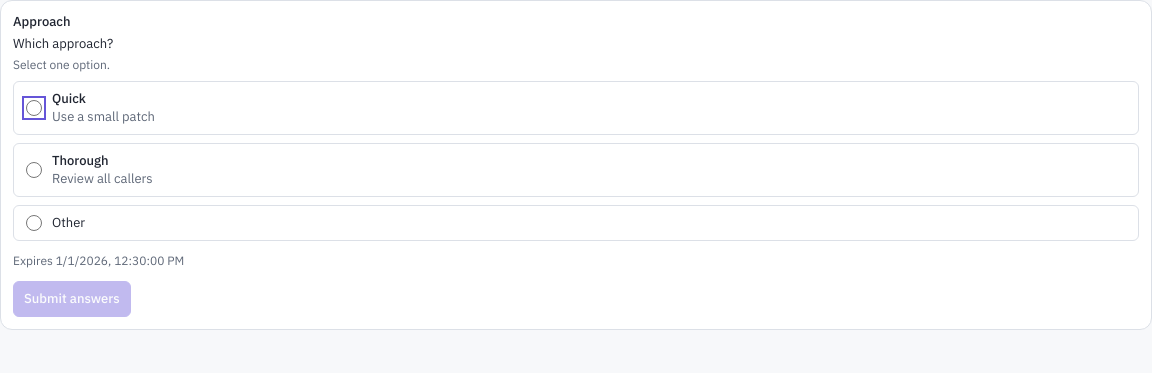
disables question controls and prevents double submission, including after success
The width and height of the screenshot is (1152, 373).
Later steps or results of the test are not shown.
Press Space in the radio button labelled "Quick Use a small patch", box [26,100,42,116]
Click the radio button labelled "Quick Use a small patch": (34, 108) [26,100,42,116]
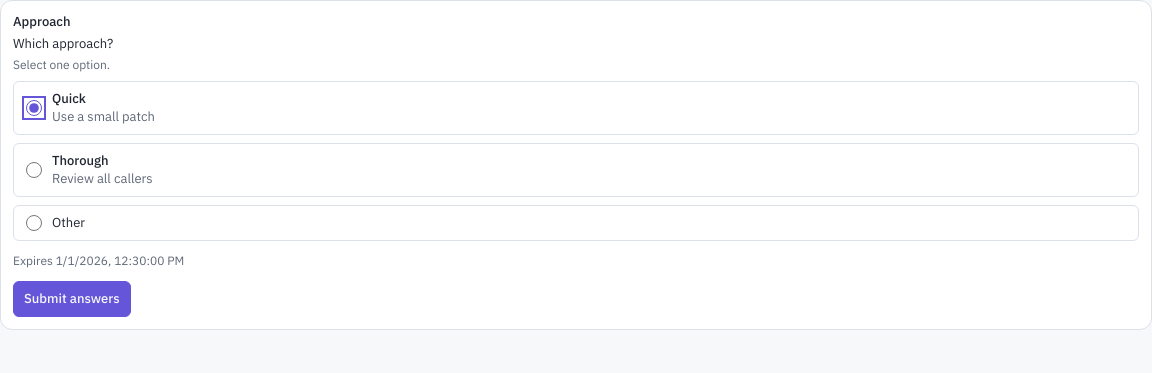
Click the button "Submit answers": (72, 299) [13,281,131,317]
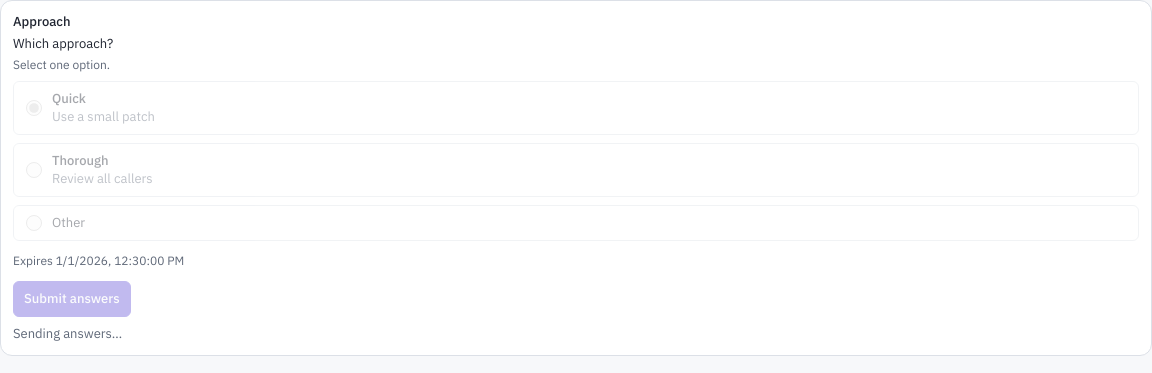
Submit the form named "Submit answers"
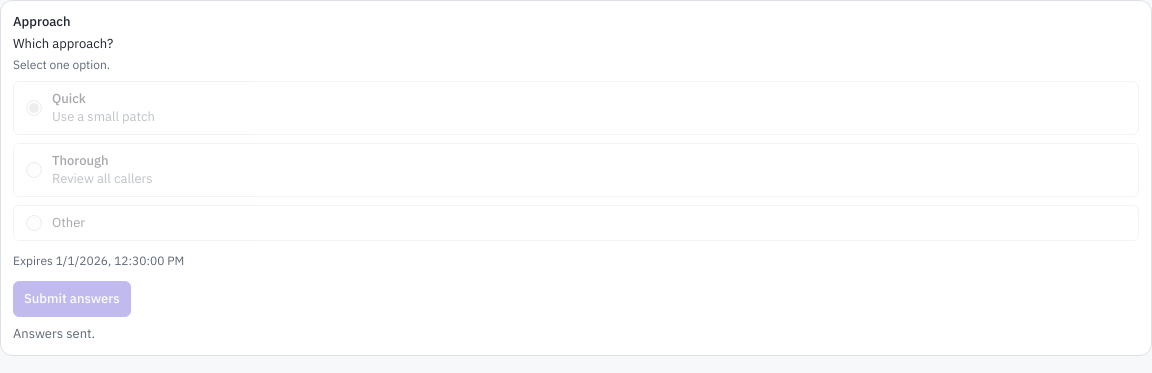
Result: the button "Submit answers" is disabled at [13,281,131,317]
